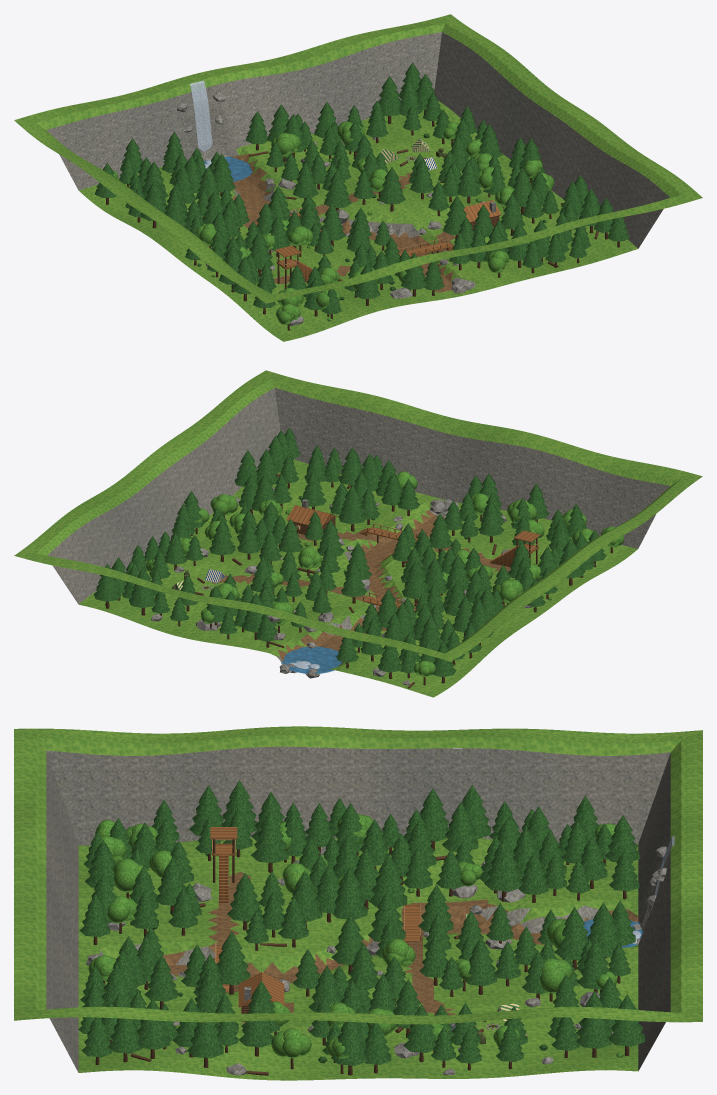
Rendered from map_pines (3).glb.
The picture shows the model from 3 angles, top to bottom: view 1: azimuth 30°, elevation 25°; view 2: azimuth 150°, elevation 25°; view 3: azimuth 270°, elevation 25°; orthographic projection. The views are drawn at different scales.
Parts seen in each view (by area): view 1: pine, grass, rock, leaves, dirt, bark, wood, foam; view 2: pine, grass, rock, leaves, dirt, bark, wood, water; view 3: pine, grass, rock, leaves, dirt, bark, wood.
Part boxes in pixels (x1,y1,x2,y2): pine: (94,62,629,313); grass: (14,14,702,341); rock: (46,32,669,325); leaves: (112,121,554,324); dirt: (227,153,461,292); bark: (106,110,619,330); wood: (255,200,501,269); foam: (189,80,225,168); pine: (94,427,606,676); grass: (14,370,702,697); rock: (47,388,669,685); leaves: (105,471,624,676); dirt: (212,510,510,672); bark: (106,474,612,688); wood: (286,505,540,610); water: (280,646,341,673); pine: (78,780,644,1065); grass: (14,726,702,1080); rock: (46,746,670,1075); leaves: (88,814,623,1058); dirt: (163,872,638,1026); bark: (93,839,629,1075); wood: (210,827,420,1012).
Size of what is drawn, in the model's own units: 128 by 21.58 by 128.
Materials: 14 (14 with a texture image).
